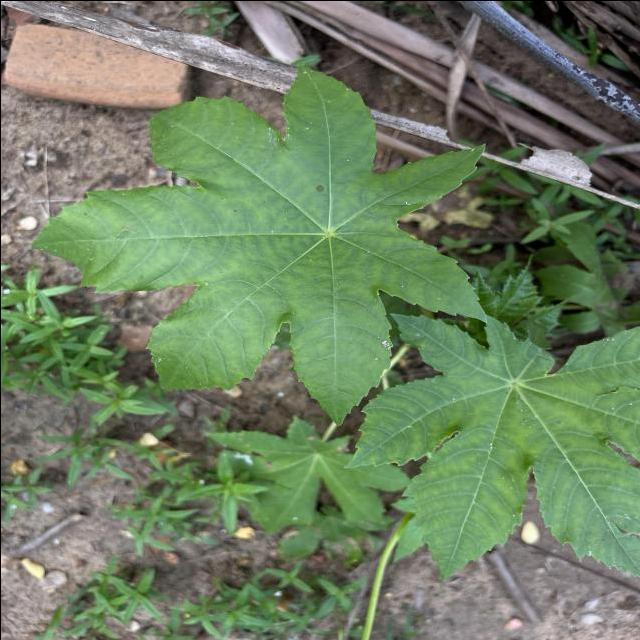Ricinus communis linn: (26, 59, 490, 430)
